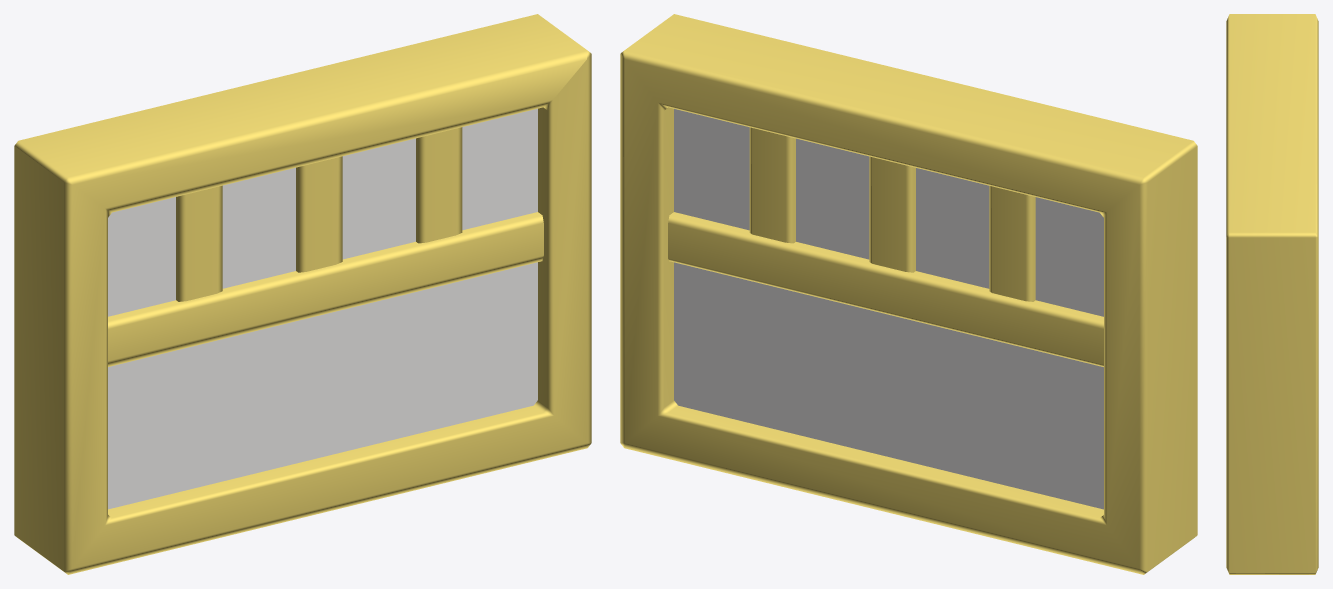
Rendered from Window_2.glb.
3 renders of one model, left to right at view 1: azimuth 30°, elevation 25°; view 2: azimuth 150°, elevation 25°; view 3: azimuth 270°, elevation 25°, orthographic. The views are drawn at different scales.
Parts seen in each view (by area): view 1: Window_2; view 2: Window_2; view 3: Window_2.
Part boxes in pixels (<box>): Window_2: <box>14,14,591,574</box>; Window_2: <box>620,14,1197,574</box>; Window_2: <box>1226,14,1318,574</box>.
Bounding box in the file's own units: 2.42 × 1.74 × 0.4247.
Materials: 2 (2 with a texture image).
